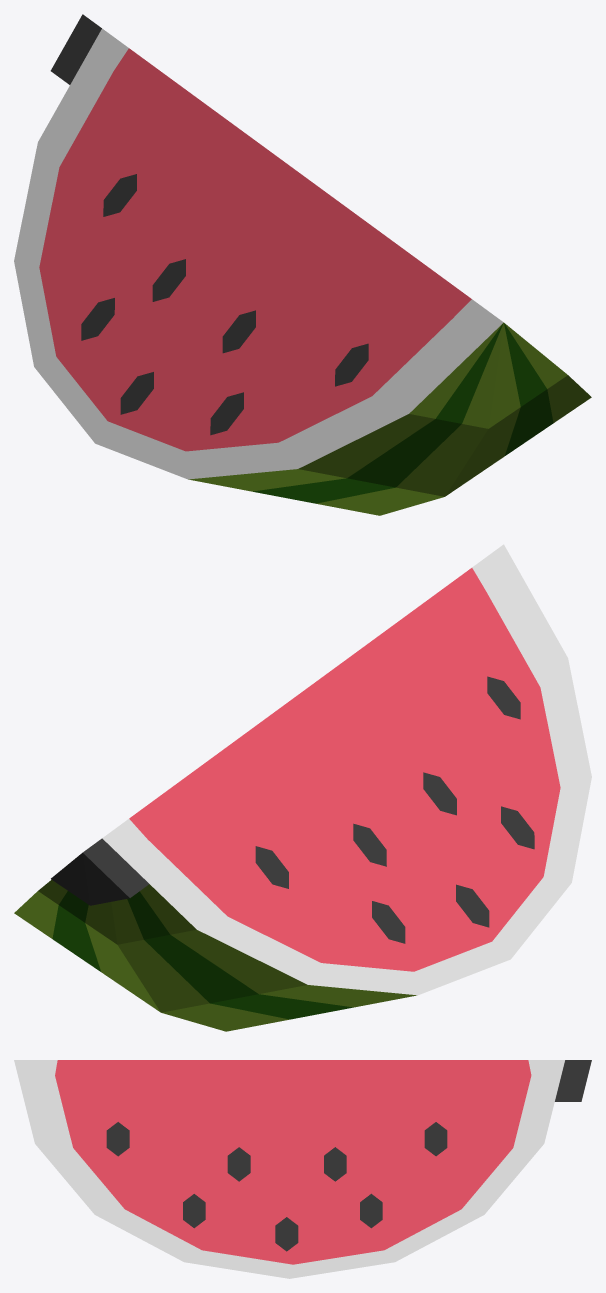
Rendered from WatermelonSlice.fbx.
3 renders of one model, top to bottom at view 1: azimuth 30°, elevation 25°; view 2: azimuth 150°, elevation 25°; view 3: azimuth 270°, elevation 25°, orthographic. The views are drawn at different scales.
Parts seen in each view (by area): view 1: WatermelonSlice; view 2: WatermelonSlice; view 3: WatermelonSlice.
Boxes of the visible parts, x1,y1,x2,y2 form: WatermelonSlice: (14, 14, 591, 515); WatermelonSlice: (14, 544, 591, 1031); WatermelonSlice: (14, 1060, 591, 1278).
Bounding box in the file's own units: 0.4039 × 0.2302 × 0.1627.
